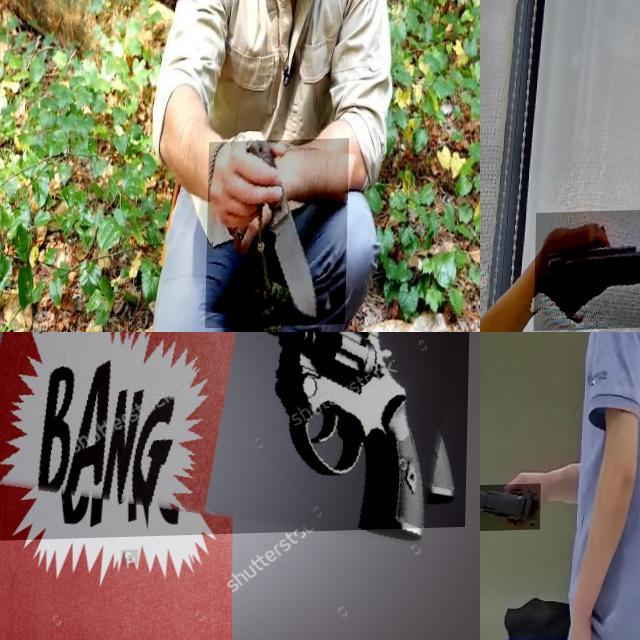-: (208, 141, 350, 330)
gun-knife-thesis - v11 Yolov5 augmented: (0, 332, 473, 541), (535, 211, 640, 332), (480, 484, 541, 532)
